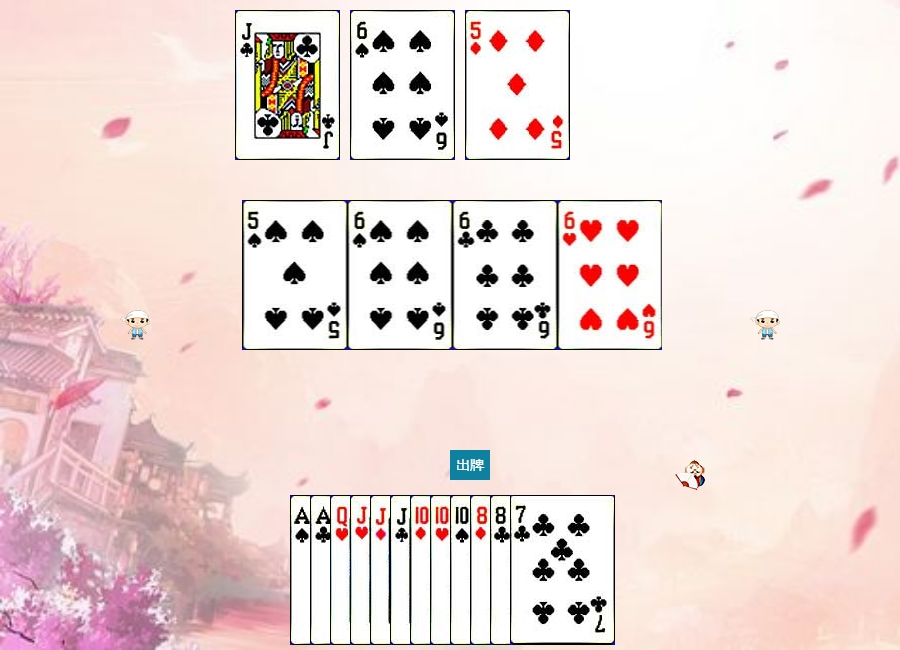10~1: (410, 495, 515, 645)
10~3: (430, 495, 535, 645)
10~4: (450, 495, 555, 645)
11~1: (370, 495, 475, 645)
11~2: (235, 10, 340, 160), (390, 495, 495, 645)
11~3: (350, 495, 455, 645)
12~3: (330, 495, 435, 645)
14~2: (310, 495, 415, 645)
14~4: (290, 495, 395, 645)
5~1: (465, 10, 570, 160)
5~4: (243, 200, 348, 350)
6~2: (453, 200, 558, 350)
6~3: (558, 200, 663, 350)
6~4: (350, 10, 455, 160), (348, 200, 453, 350)
7~2: (510, 495, 615, 645)
8~1: (470, 495, 575, 645)
8~2: (490, 495, 595, 645)
